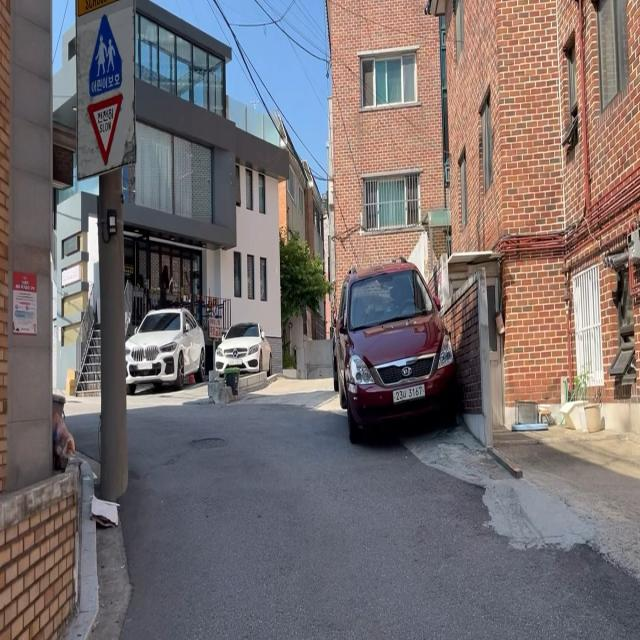building: (325, 0, 639, 440), (63, 23, 279, 374)
car: (331, 255, 457, 444), (124, 306, 206, 394), (214, 321, 272, 376)
